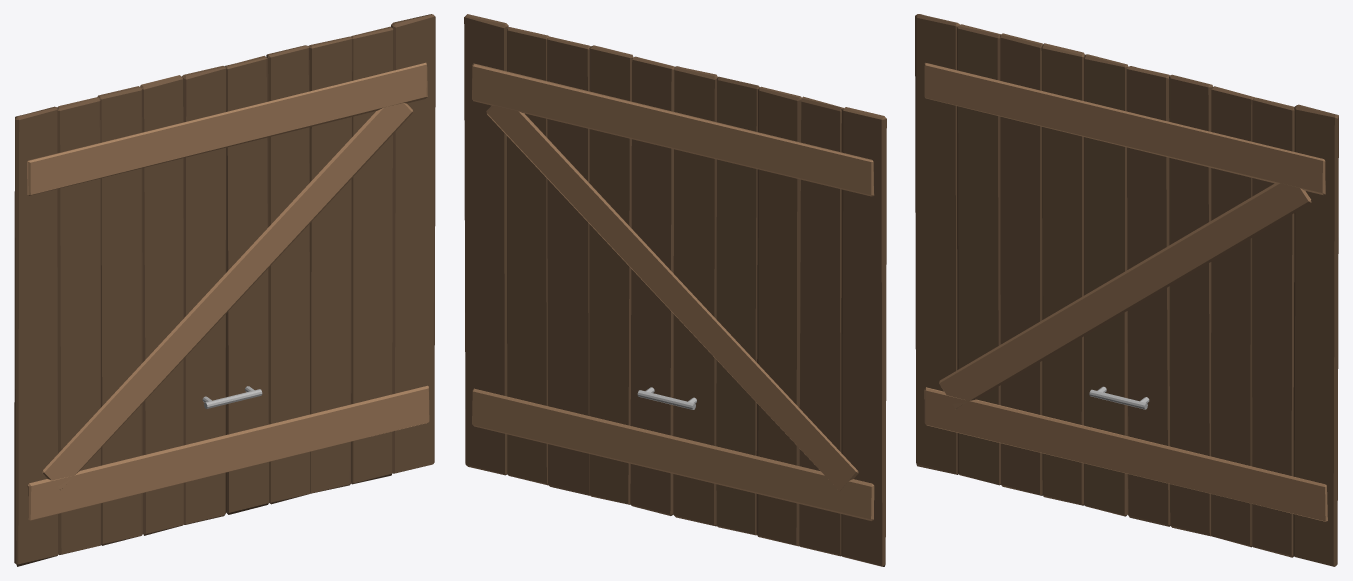
Rendered from PKX_Garage_Door_Leaf.fbx.
The picture shows the model from 3 angles, left to right: view 1: azimuth 30°, elevation 25°; view 2: azimuth 150°, elevation 25°; view 3: azimuth 330°, elevation 25°; orthographic projection.
Parts seen in each view (by area): view 1: PKX_Garage_Door_Leaf; view 2: PKX_Garage_Door_Leaf; view 3: PKX_Garage_Door_Leaf.
Boxes of the visible parts, left/top/right/bottom form: PKX_Garage_Door_Leaf: left=14, top=14, right=435, bottom=566; PKX_Garage_Door_Leaf: left=464, top=14, right=886, bottom=566; PKX_Garage_Door_Leaf: left=915, top=14, right=1338, bottom=566.
Size of the model in its own units: 169 by 173 by 14.2.
